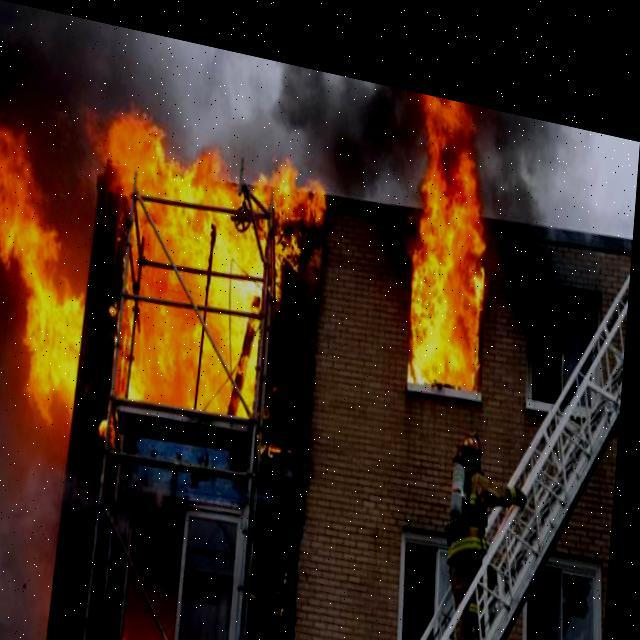Fire: (0, 66, 331, 455), (399, 77, 500, 379)
